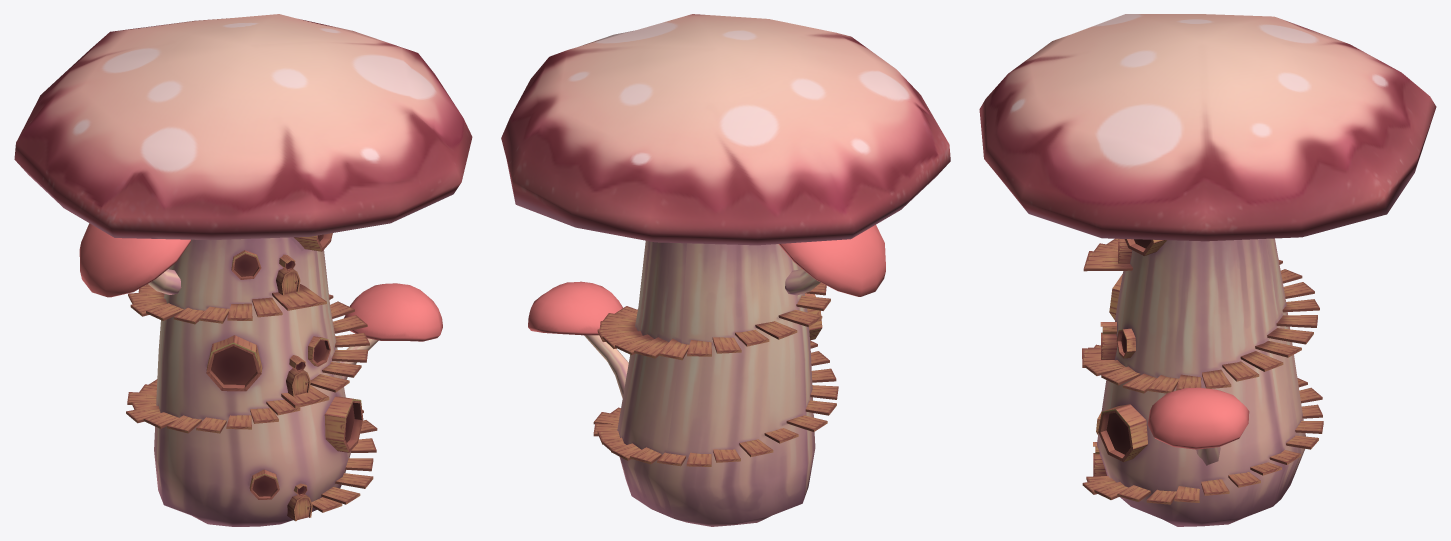
The model's file is MD_mushroom_home_L.fbx.
3 views of the same model, side by side, from view 1: azimuth 30°, elevation 25°; view 2: azimuth 150°, elevation 25°; view 3: azimuth 270°, elevation 25° (orthographic).
Parts seen in each view (by area): view 1: mushroom_home_L2; view 2: mushroom_home_L2; view 3: mushroom_home_L2.
Part boxes in pixels (left/top/right/bottom): mushroom_home_L2: left=14, top=14, right=472, bottom=526; mushroom_home_L2: left=501, top=14, right=950, bottom=526; mushroom_home_L2: left=979, top=14, right=1436, bottom=526.
Bounding box in the file's own units: 2332 × 2616 × 2369.
1 material, 1 textured.
